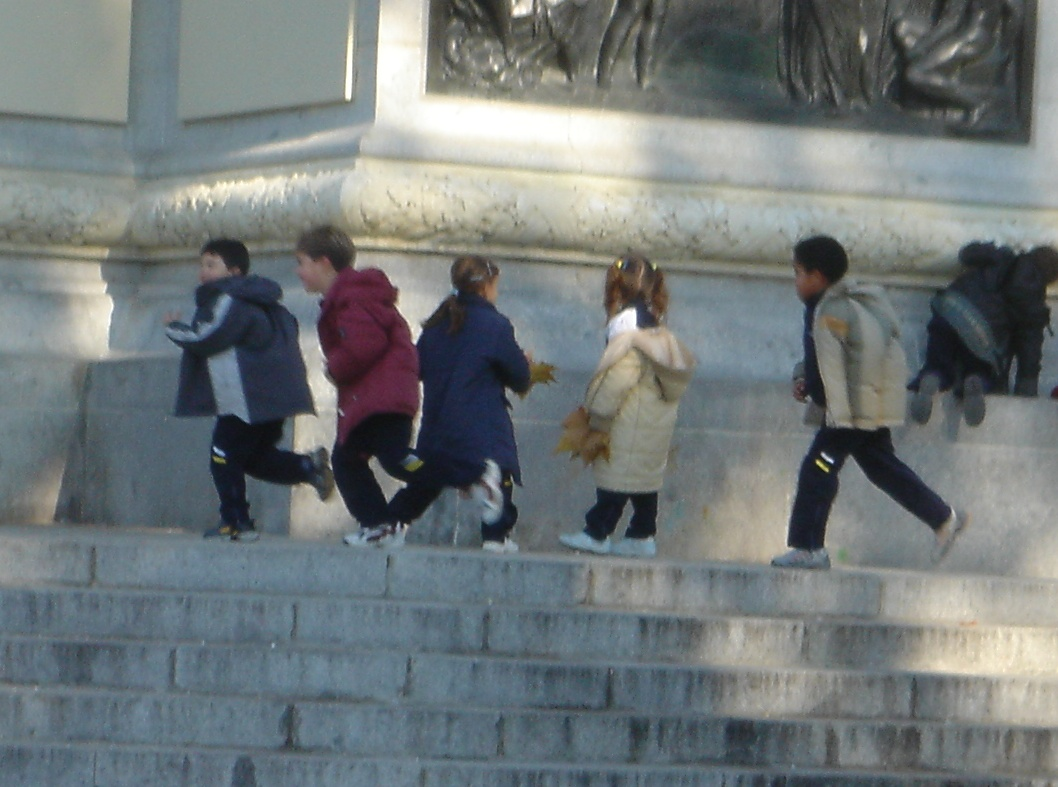person: (769, 232, 905, 571), (292, 226, 422, 547), (178, 238, 293, 540), (417, 251, 521, 550), (580, 252, 676, 555)
